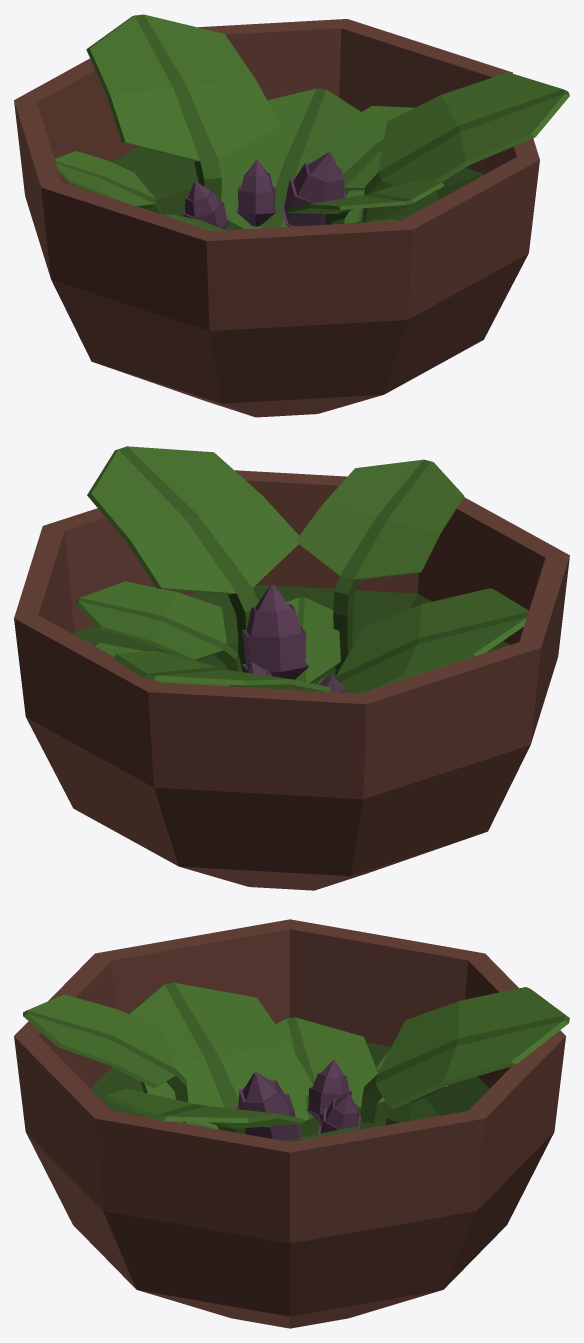
Rendered from HealingMixture.fbx.
3 renders of one model, top to bottom at view 1: azimuth 30°, elevation 25°; view 2: azimuth 150°, elevation 25°; view 3: azimuth 270°, elevation 25°, orthographic. The views are drawn at different scales.
Parts seen in each view (by area): view 1: Healing_Mixture; view 2: Healing_Mixture; view 3: Healing_Mixture.
Boxes of the visible parts, x1=… form: Healing_Mixture: x1=14, y1=14, x2=569, y2=417; Healing_Mixture: x1=14, y1=446, x2=569, y2=890; Healing_Mixture: x1=14, y1=919, x2=569, y2=1328.
Size of the model in its own units: 2 by 1.15 by 2.01.
